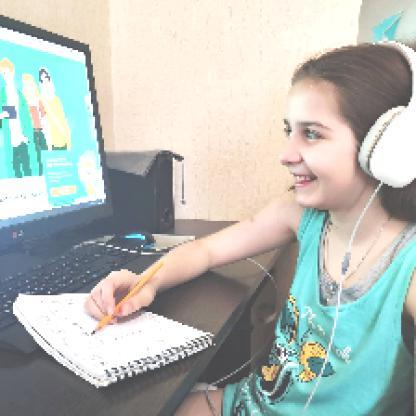child: (81, 40, 416, 415)
